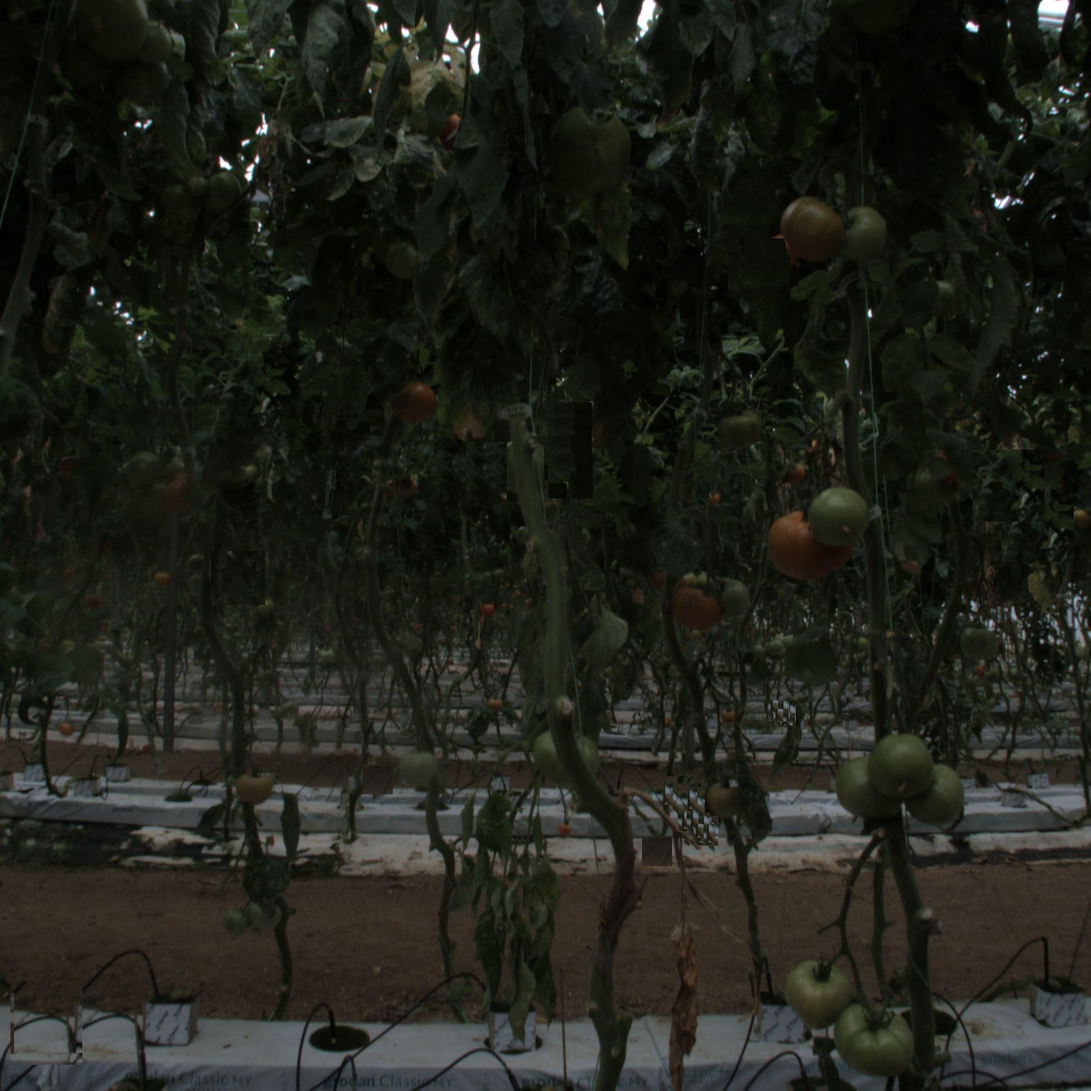fully-ripe: (771, 508, 845, 582), (670, 582, 723, 634), (394, 381, 440, 427)
semi-ripe: (776, 194, 848, 266)
unripe: (547, 109, 636, 199), (837, 999, 912, 1073), (527, 723, 599, 795), (787, 954, 852, 1018), (834, 753, 898, 818), (901, 762, 965, 826), (865, 733, 929, 797), (812, 487, 866, 542), (839, 209, 887, 257), (957, 624, 1002, 668), (706, 782, 746, 821), (399, 748, 439, 787), (236, 767, 275, 806)
